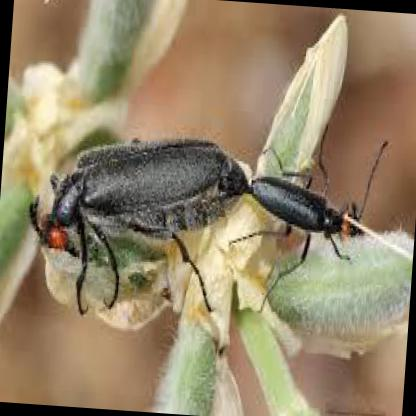blister beetle: (36, 138, 249, 316), (247, 177, 364, 238)
